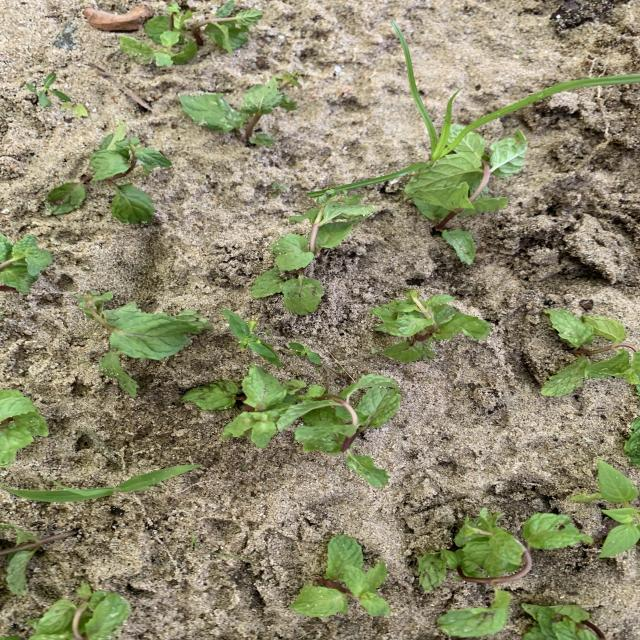crop: (183, 363, 401, 487), (405, 131, 527, 264), (251, 189, 375, 315), (418, 508, 593, 590), (78, 291, 209, 395), (47, 124, 170, 222), (120, 0, 262, 67), (368, 291, 490, 361), (543, 309, 639, 395), (290, 535, 390, 615), (179, 80, 294, 146), (28, 583, 129, 639), (1, 524, 74, 592), (1, 389, 47, 466), (522, 603, 601, 640), (1, 234, 51, 292)
weed: (308, 20, 640, 197), (0, 466, 199, 501), (570, 460, 640, 558), (224, 310, 279, 366), (27, 74, 70, 106), (288, 342, 321, 364), (271, 181, 287, 195)
